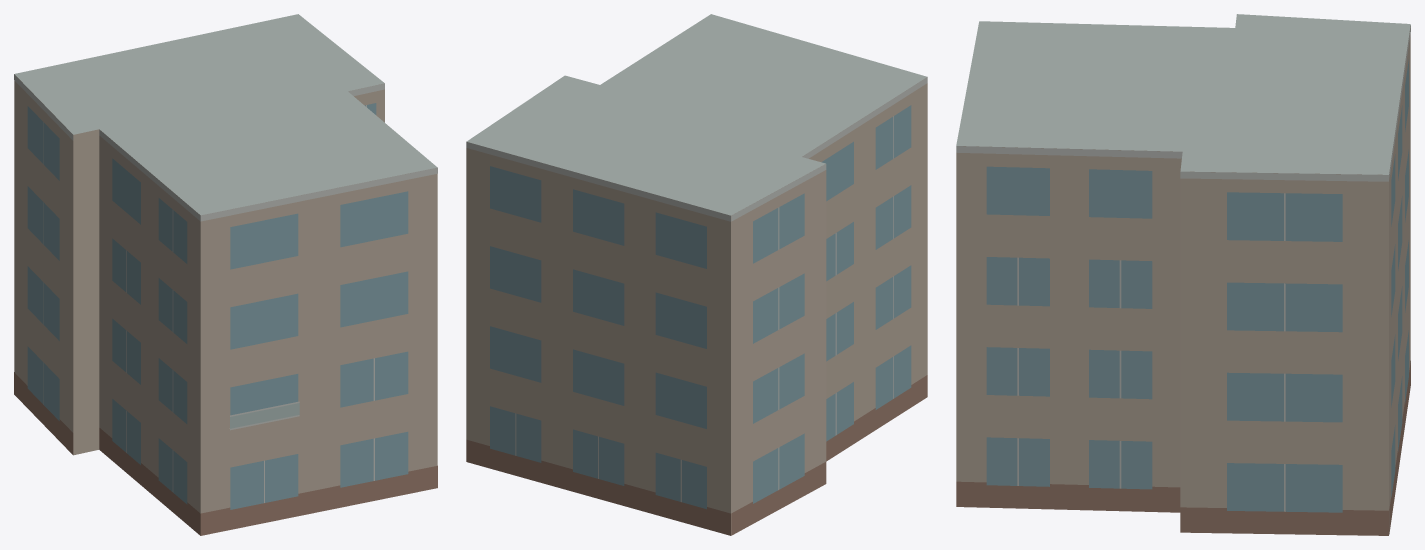
File: survey-upis-32605390.glb
3 views of the same model, side by side, from view 1: azimuth 30°, elevation 25°; view 2: azimuth 150°, elevation 25°; view 3: azimuth 270°, elevation 25° (orthographic). The views are drawn at different scales.
Parts seen in each view (by area): view 1: survey-upis-32605390.tmp; view 2: survey-upis-32605390.tmp; view 3: survey-upis-32605390.tmp.
Part boxes in pixels (bbox=[...]): survey-upis-32605390.tmp: bbox=[14, 14, 437, 535]; survey-upis-32605390.tmp: bbox=[466, 14, 927, 535]; survey-upis-32605390.tmp: bbox=[956, 14, 1410, 535].
Bounding box in the file's own units: 12.15 × 12.7 × 14.51.
